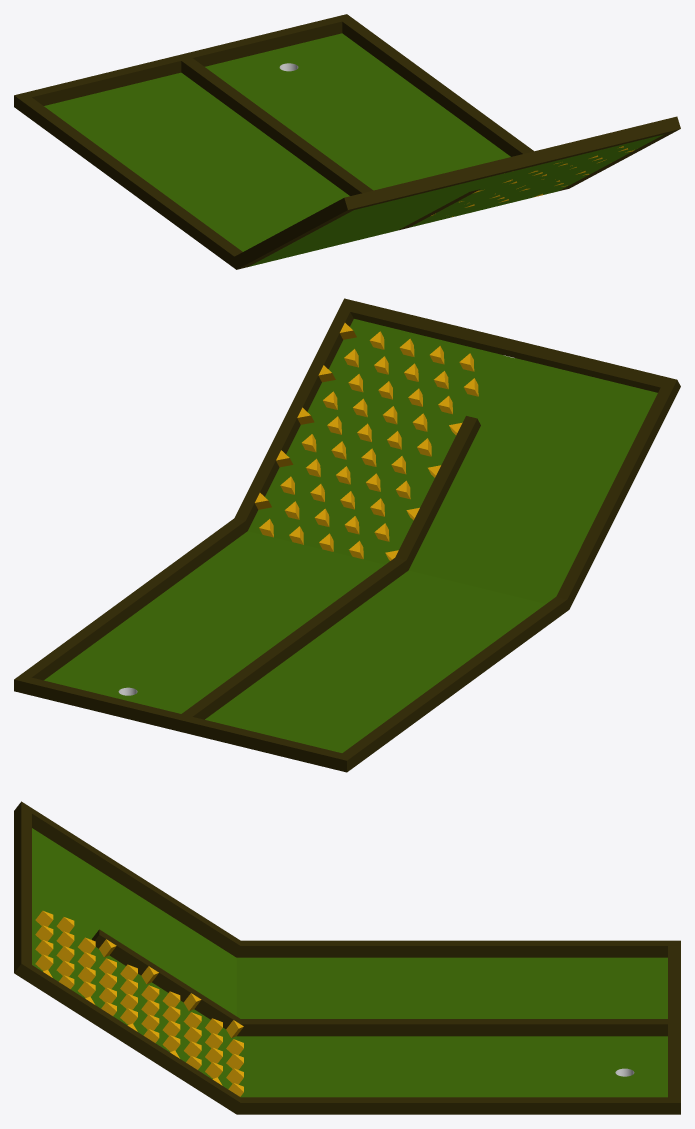
Rendered from course6.fbx.
3 renders of one model, top to bottom at view 1: azimuth 30°, elevation 25°; view 2: azimuth 150°, elevation 25°; view 3: azimuth 270°, elevation 25°, orthographic.
Visible parts, largest first — view 1: green6, wall6; view 2: green6, wall6, plinko; view 3: green6, wall6, plinko.
Part boxes in pixels (left/top/right/bottom): green6: left=44, top=33, right=663, bottom=266; wall6: left=14, top=14, right=680, bottom=269; green6: left=44, top=319, right=657, bottom=752; wall6: left=14, top=298, right=680, bottom=772; plinko: left=255, top=323, right=478, bottom=560; green6: left=32, top=828, right=667, bottom=1097; wall6: left=14, top=801, right=680, bottom=1114; plinko: left=35, top=910, right=243, bottom=1096.
Size of the model in its own units: 44.5 by 21.3 by 77.3.
